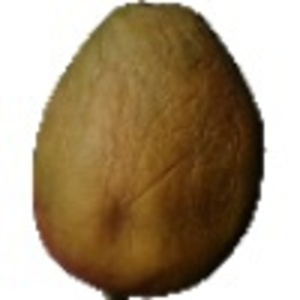mamão: (45, 5, 267, 294)
